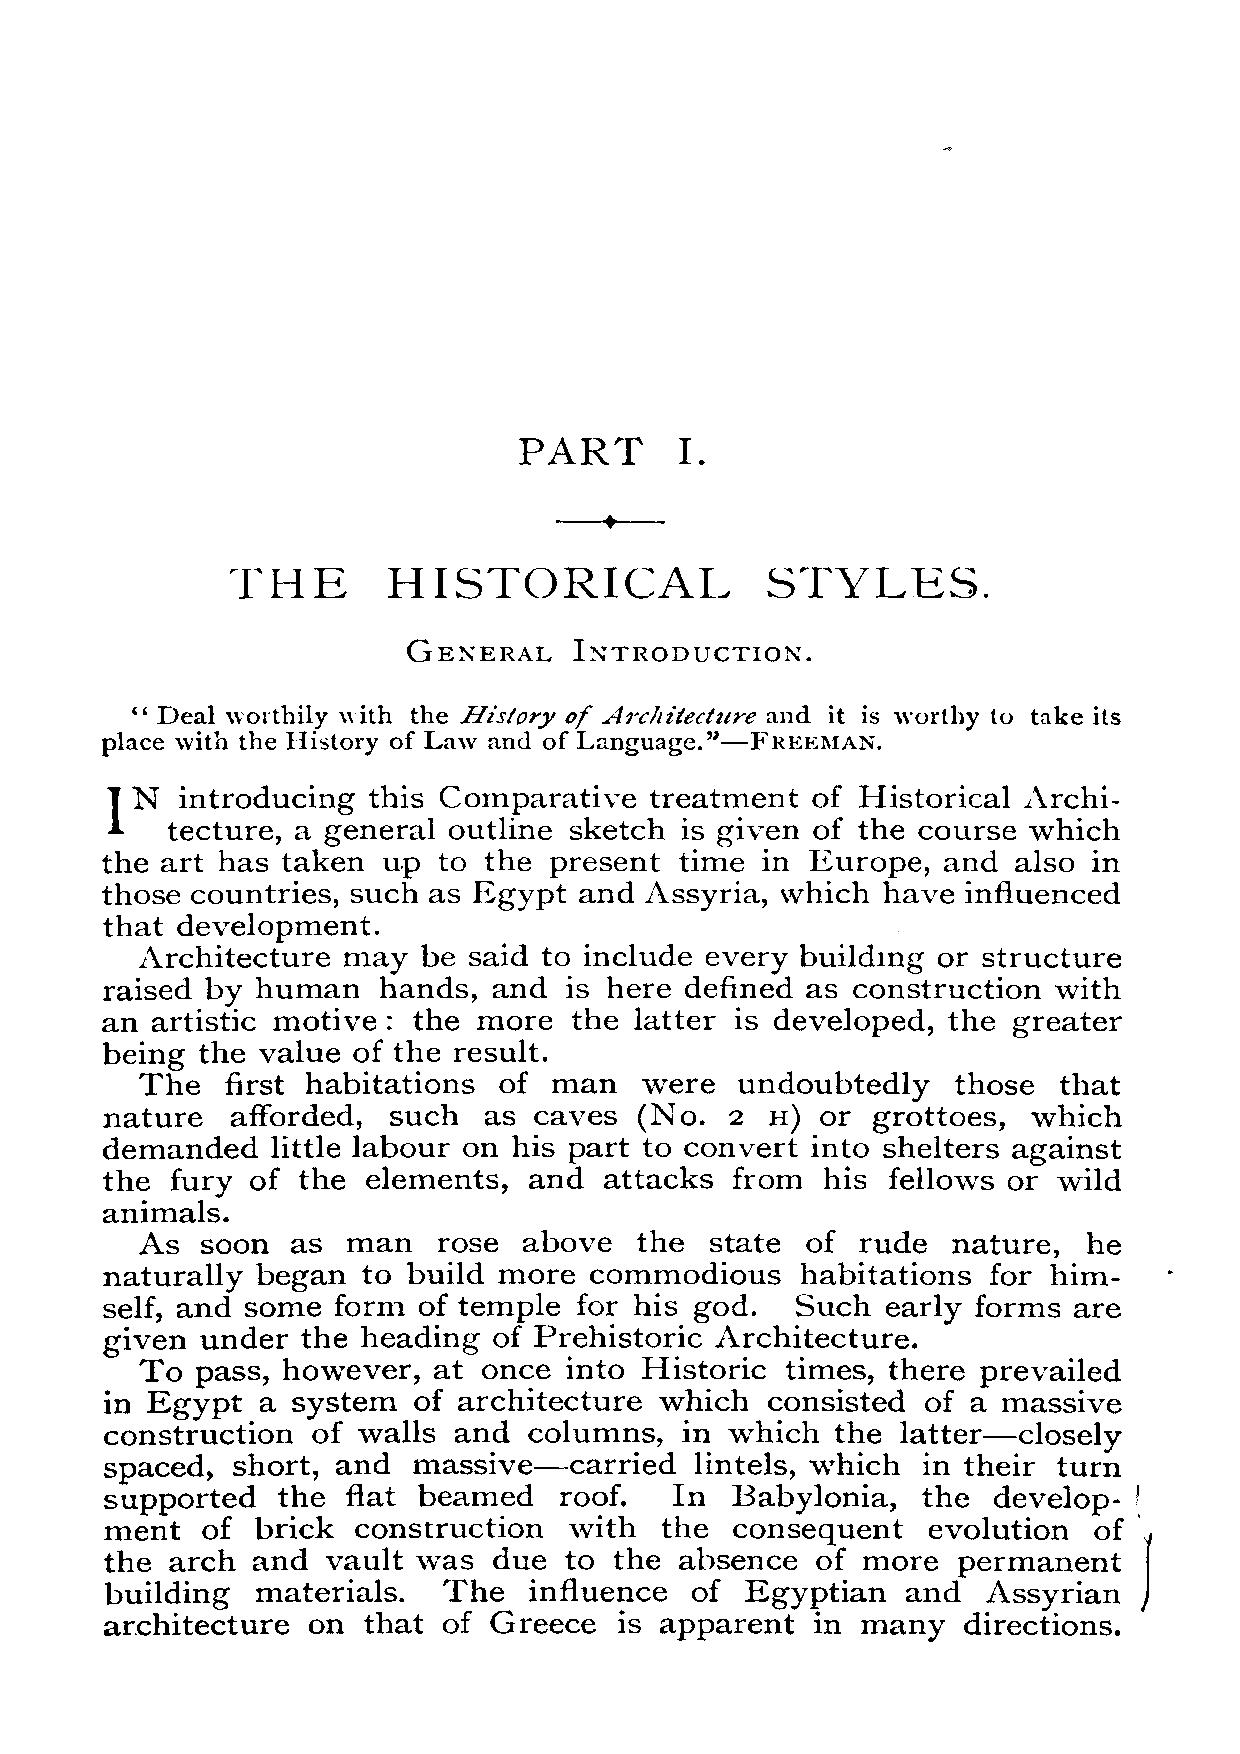chapter: (225, 432, 989, 601), (404, 636, 813, 663)
content: (99, 705, 1125, 1645)
